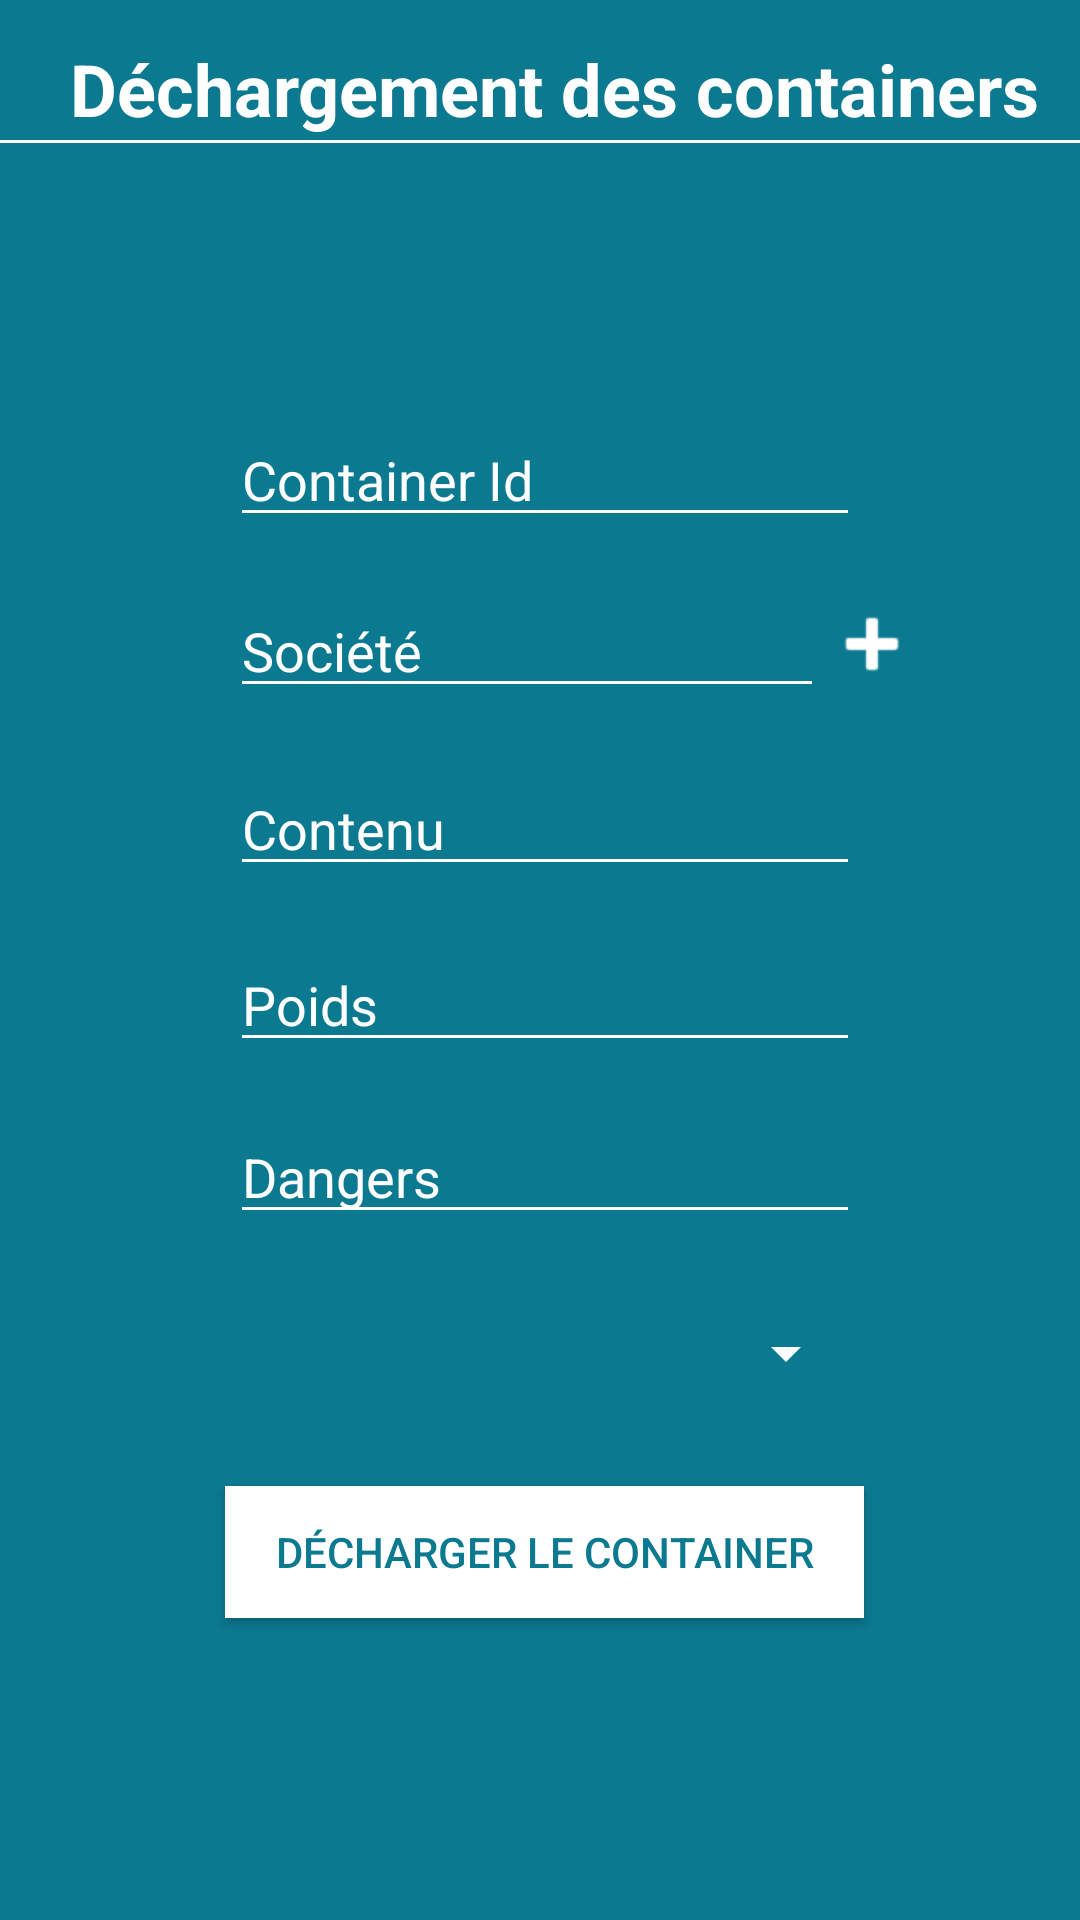

Locate icon controls on the screen. Image size 1080 × 1920, boxes as (x1, y1, x2, y2).
add: (845, 617, 899, 671)
